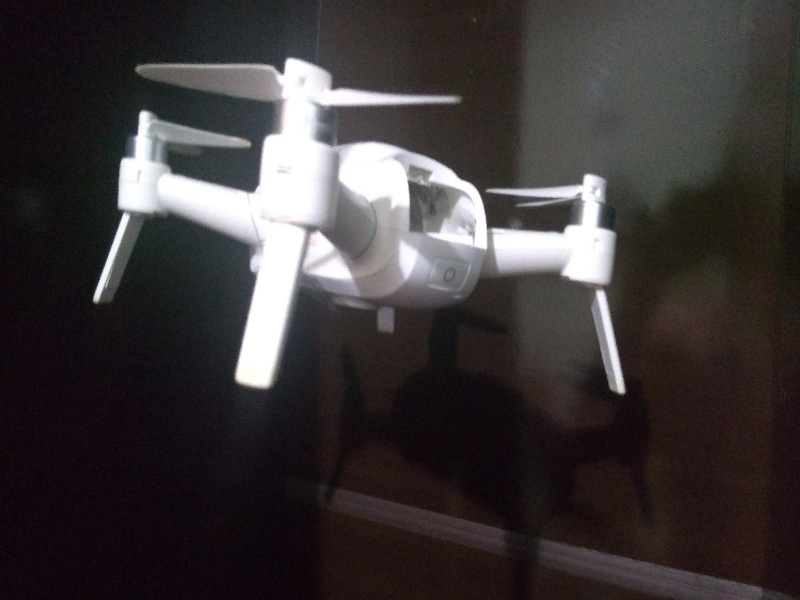drone: (75, 49, 634, 406)
